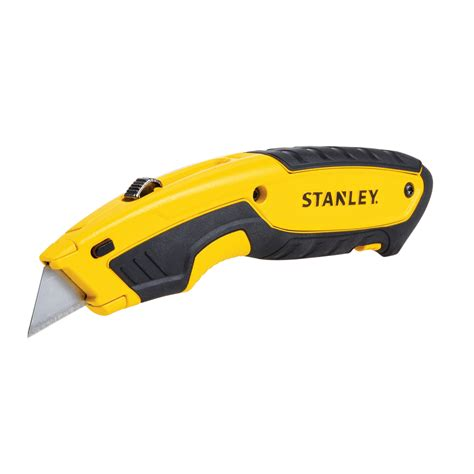knife: (20, 241, 107, 342)
